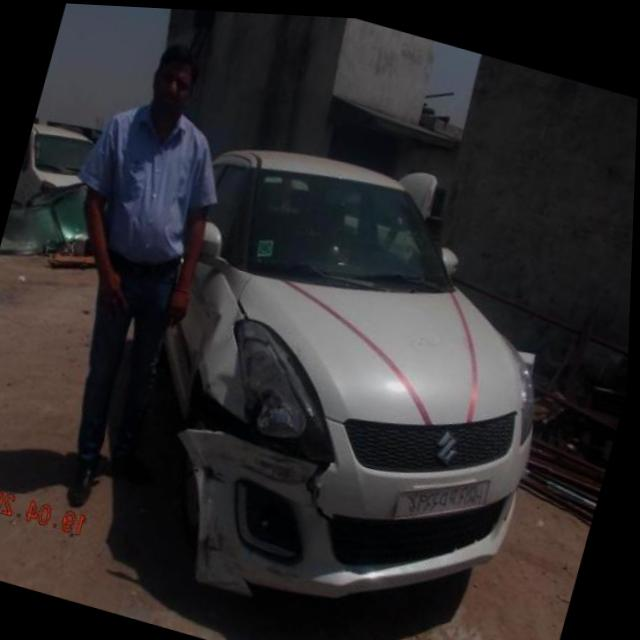Car-Damage: (171, 352, 352, 475), (191, 504, 309, 605), (233, 433, 322, 495), (250, 383, 321, 453), (203, 355, 265, 422), (300, 451, 351, 522), (197, 453, 235, 488)
